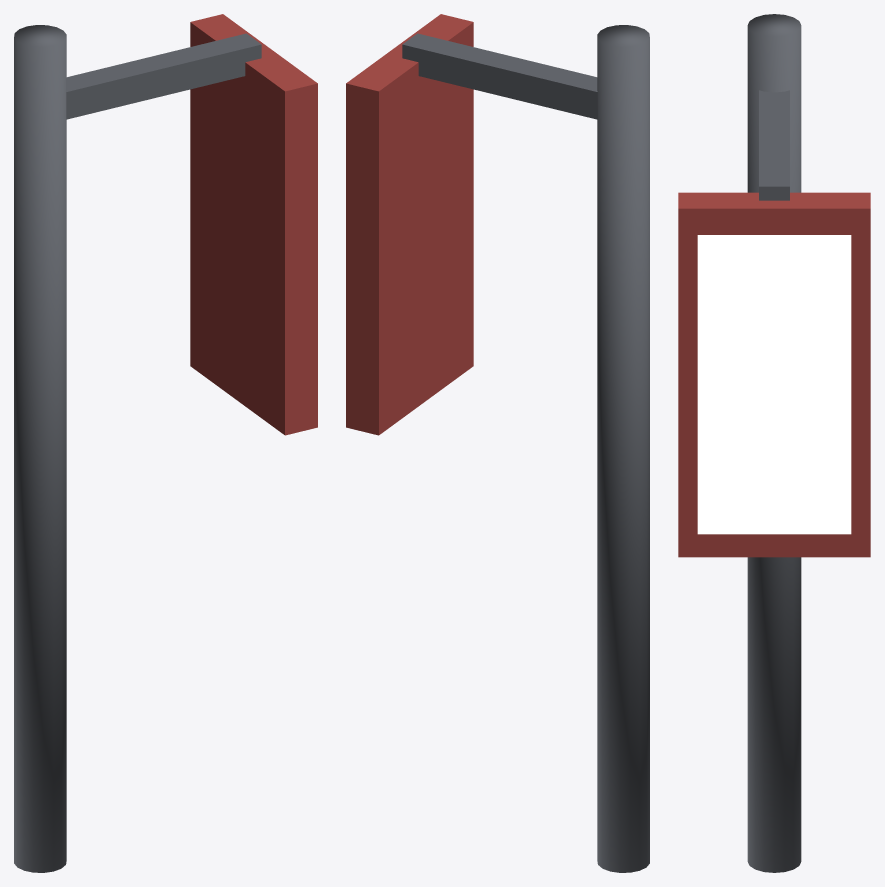
File: prop_tsukidashi_kanban.glb
The picture shows the model from 3 angles, left to right: view 1: azimuth 30°, elevation 25°; view 2: azimuth 150°, elevation 25°; view 3: azimuth 270°, elevation 25°; orthographic projection.
Visible parts, largest first — view 1: tsukidashi_kanban; view 2: tsukidashi_kanban; view 3: tsukidashi_kanban.
Part boxes in pixels (<box>): tsukidashi_kanban: <box>14,14,317,872</box>; tsukidashi_kanban: <box>346,14,649,872</box>; tsukidashi_kanban: <box>678,14,870,872</box>.
Bounding box in the file's own units: 0.79 × 2.4 × 0.5.
